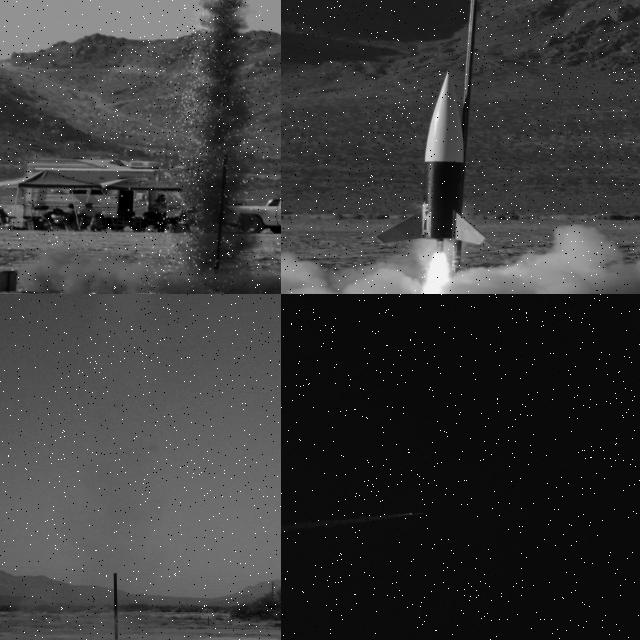Rocket: (375, 68, 487, 251), (409, 511, 424, 515)
